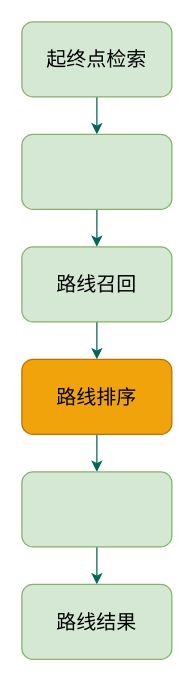
This 194x681 diagram has some shape labels left out. Here are the shapes that lost their labels. From the top down, the box of each, then its label:
(21, 133, 172, 209): 绑路
(21, 471, 172, 547): 诱导添加
